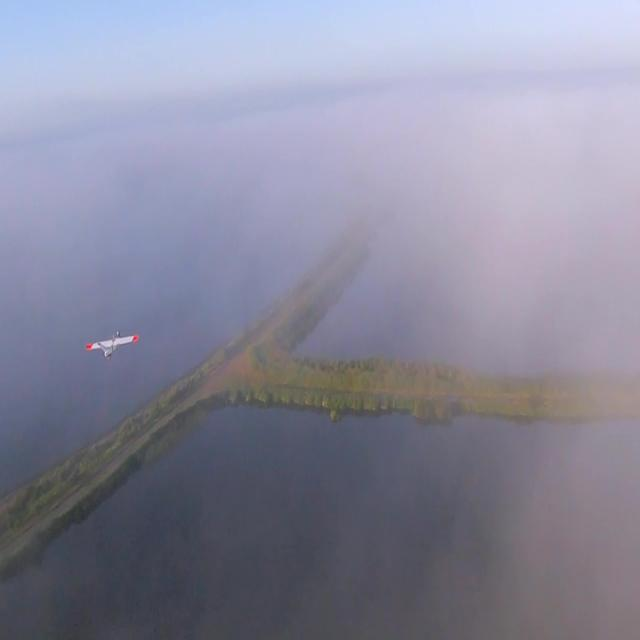iha: (21, 330, 75, 361)
